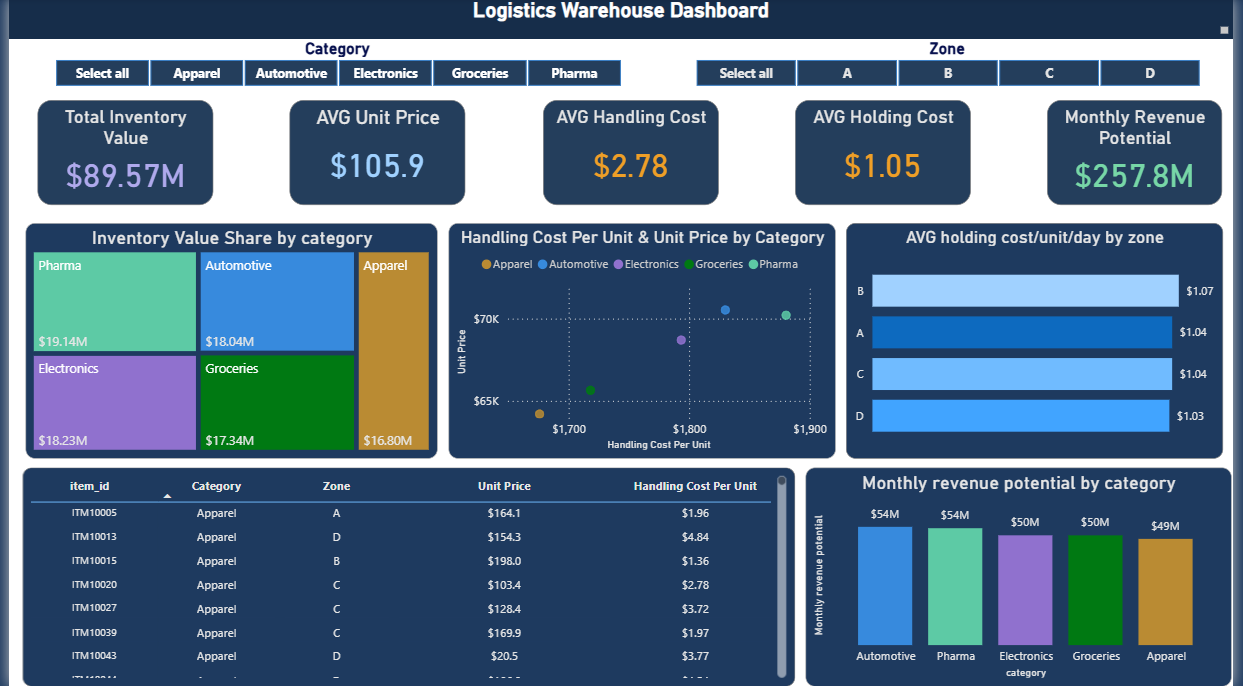

Layout of this report page (visuals, bound fields, positions):
{"tool":"powerbi","page":{"name":"Cost Analysis","canvas":[1280,720],"ordinal":3},"visuals":[{"type":"card","title":"AVG Handling Cost","fields":{"Values":["Avg(logistics_powerbi.handling_cost_per_unit)"]},"box":[558.1,107,184.1,109.7],"z":0},{"type":"card","title":"Monthly Revenue Potential","fields":{"Values":["Sum(logistics_powerbi.monthly_revenue_potential)"]},"box":[1086.3,107,183.2,109.7],"z":1000},{"type":"card","title":"AVG Unit Price","fields":{"Values":["Avg(logistics_powerbi.unit_price)"]},"box":[294,107,184.1,109.7],"z":2000},{"type":"card","title":"Total Inventory Value","fields":{"Values":["logistics_powerbi.Total Inventory Value"]},"box":[29.9,107,184.1,109.7],"z":3000},{"type":"textbox","title":"Logistics Warehouse Dashboard","box":[0,0,1281,42.4],"z":4000},{"type":"slicer","title":"Category","fields":{"Values":["logistics_powerbi.category"]},"box":[23.5,42.4,640.5,56.5],"z":5000},{"type":"slicer","title":"Zone","fields":{"Values":["logistics_powerbi.zone"]},"box":[693.9,42.4,576.1,56.5],"z":6000},{"type":"card","title":"AVG Holding Cost","fields":{"Values":["Avg(logistics_powerbi.holding_cost_per_unit_day)"]},"box":[822.2,107,184.1,109.7],"z":7000},{"type":"treemap","title":"Inventory Value Share by category","fields":{"Group":["logistics_powerbi.category"],"Values":["logistics_powerbi.Total Inventory Value"]},"box":[17.2,235.8,431.6,246.6],"z":8000},{"type":"scatterChart","title":"Handling Cost Per Unit & Unit Price by Category","fields":{"X":["Sum(logistics_powerbi.handling_cost_per_unit)"],"Y":["Sum(logistics_powerbi.unit_price)"],"Series":["logistics_powerbi.category"]},"box":[460.7,235.8,405.3,246.6],"z":9000},{"type":"barChart","title":"AVG holding cost/unit/day by zone","fields":{"Category":["logistics_powerbi.zone"],"Y":["Avg(logistics_powerbi.holding_cost_per_unit_day)"]},"box":[876,235.8,394.5,246.6],"z":10000},{"type":"clusteredColumnChart","title":"Monthly revenue potential by category","fields":{"Category":["logistics_powerbi.category"],"Y":["Sum(logistics_powerbi.monthly_revenue_potential)"]},"box":[833.6,491.3,445.8,229.2],"z":11000},{"type":"pivotTable","fields":{"Rows":["logistics_powerbi.item_id"],"Values":["Min(logistics_powerbi.category)","Min(logistics_powerbi.zone)","Sum(logistics_powerbi.unit_price)","Sum(logistics_powerbi.handling_cost_per_unit)"]},"box":[14.1,491.3,808.4,229.2],"z":12000}]}

Visuals, with their boxes in screenshot pixels (x1, y1, x2, y2), scaled from the page's 1280x720 canvas onto the 1243x686 screenshot:
"AVG Handling Cost" card: left=542, top=102, right=721, bottom=206
"Monthly Revenue Potential" card: left=1055, top=102, right=1233, bottom=206
"AVG Unit Price" card: left=286, top=102, right=464, bottom=206
"Total Inventory Value" card: left=29, top=102, right=208, bottom=206
"Logistics Warehouse Dashboard" textbox: left=0, top=0, right=1242, bottom=40
"Category" slicer: left=23, top=40, right=645, bottom=94
"Zone" slicer: left=674, top=40, right=1233, bottom=94
"AVG Holding Cost" card: left=798, top=102, right=977, bottom=206
"Inventory Value Share by category" treemap: left=17, top=225, right=436, bottom=460
"Handling Cost Per Unit & Unit Price by Category" scatterChart: left=447, top=225, right=841, bottom=460
"AVG holding cost/unit/day by zone" barChart: left=851, top=225, right=1234, bottom=460
"Monthly revenue potential by category" clusteredColumnChart: left=810, top=468, right=1242, bottom=685
pivotTable - logistics_powerbi.item_id x Min(logistics_powerbi.category): left=14, top=468, right=799, bottom=685
